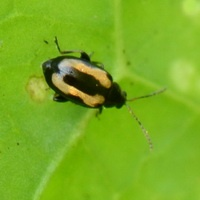insect: (42, 37, 164, 148)
